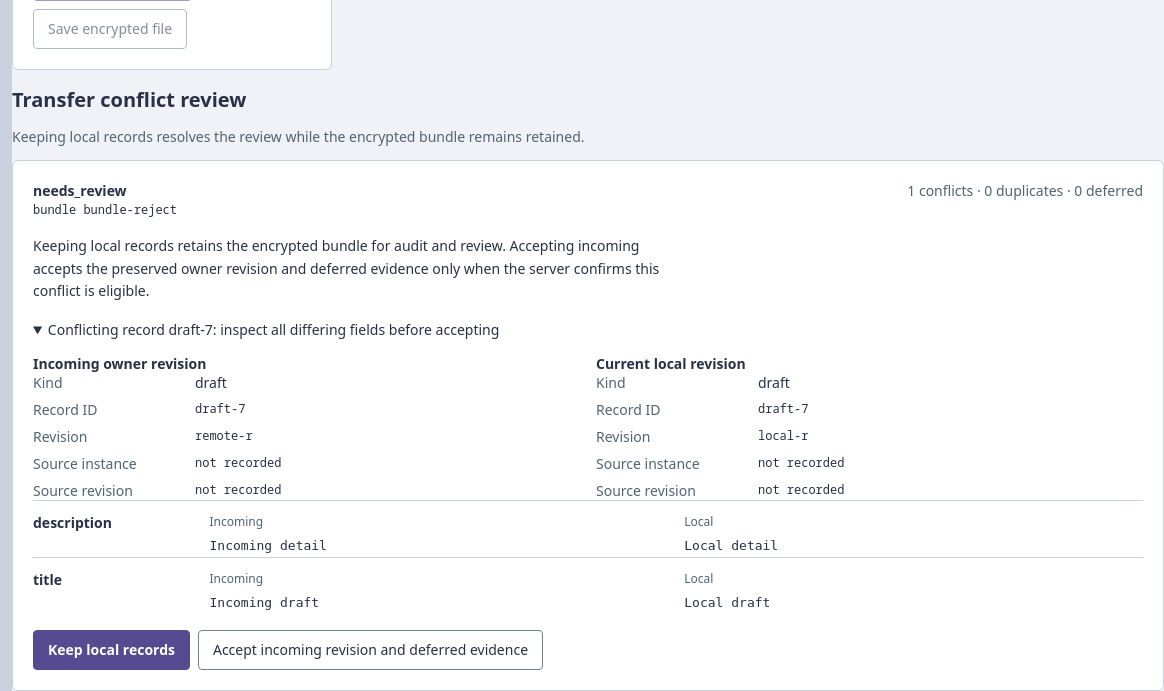
it: Merlin UI contract › shows an accept-incoming rejection while retaining the conflict for review
This screenshot has width=1164, height=691.
(page scrolled)
What coordinates should you click on to do the following:
click the button "Accept incoming revision and deferred evidence"
I would click on:
 (371, 650)
Its box is [198,630,543,670].
(page scrolled)
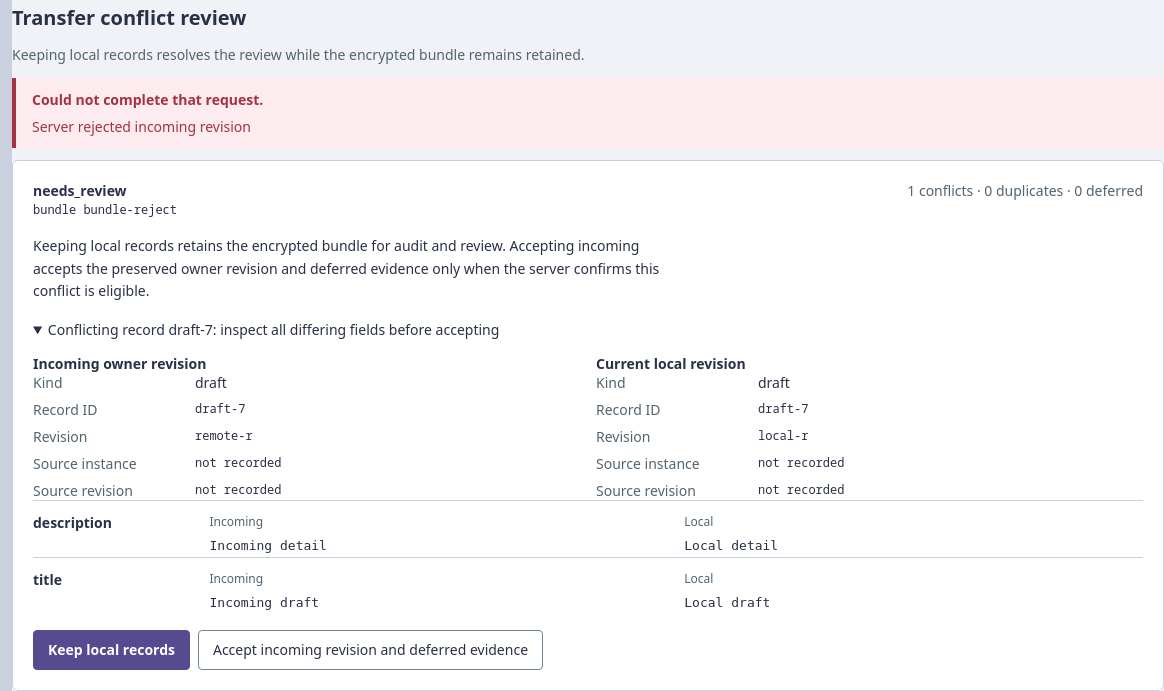
Check: the text "Incoming draft" is shown, box [210,595,319,610]
Check: the message shows "Server rejected incoming revision", box [32,117,251,136]
